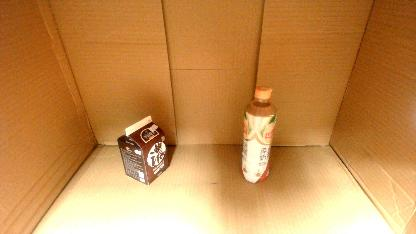Plastic Bottle: (240, 85, 278, 183)
